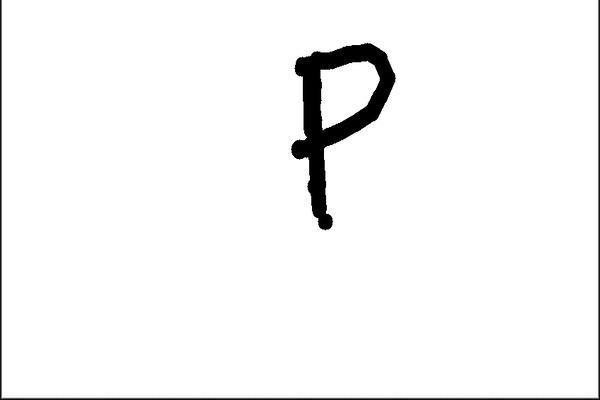P: (273, 33, 401, 240)
